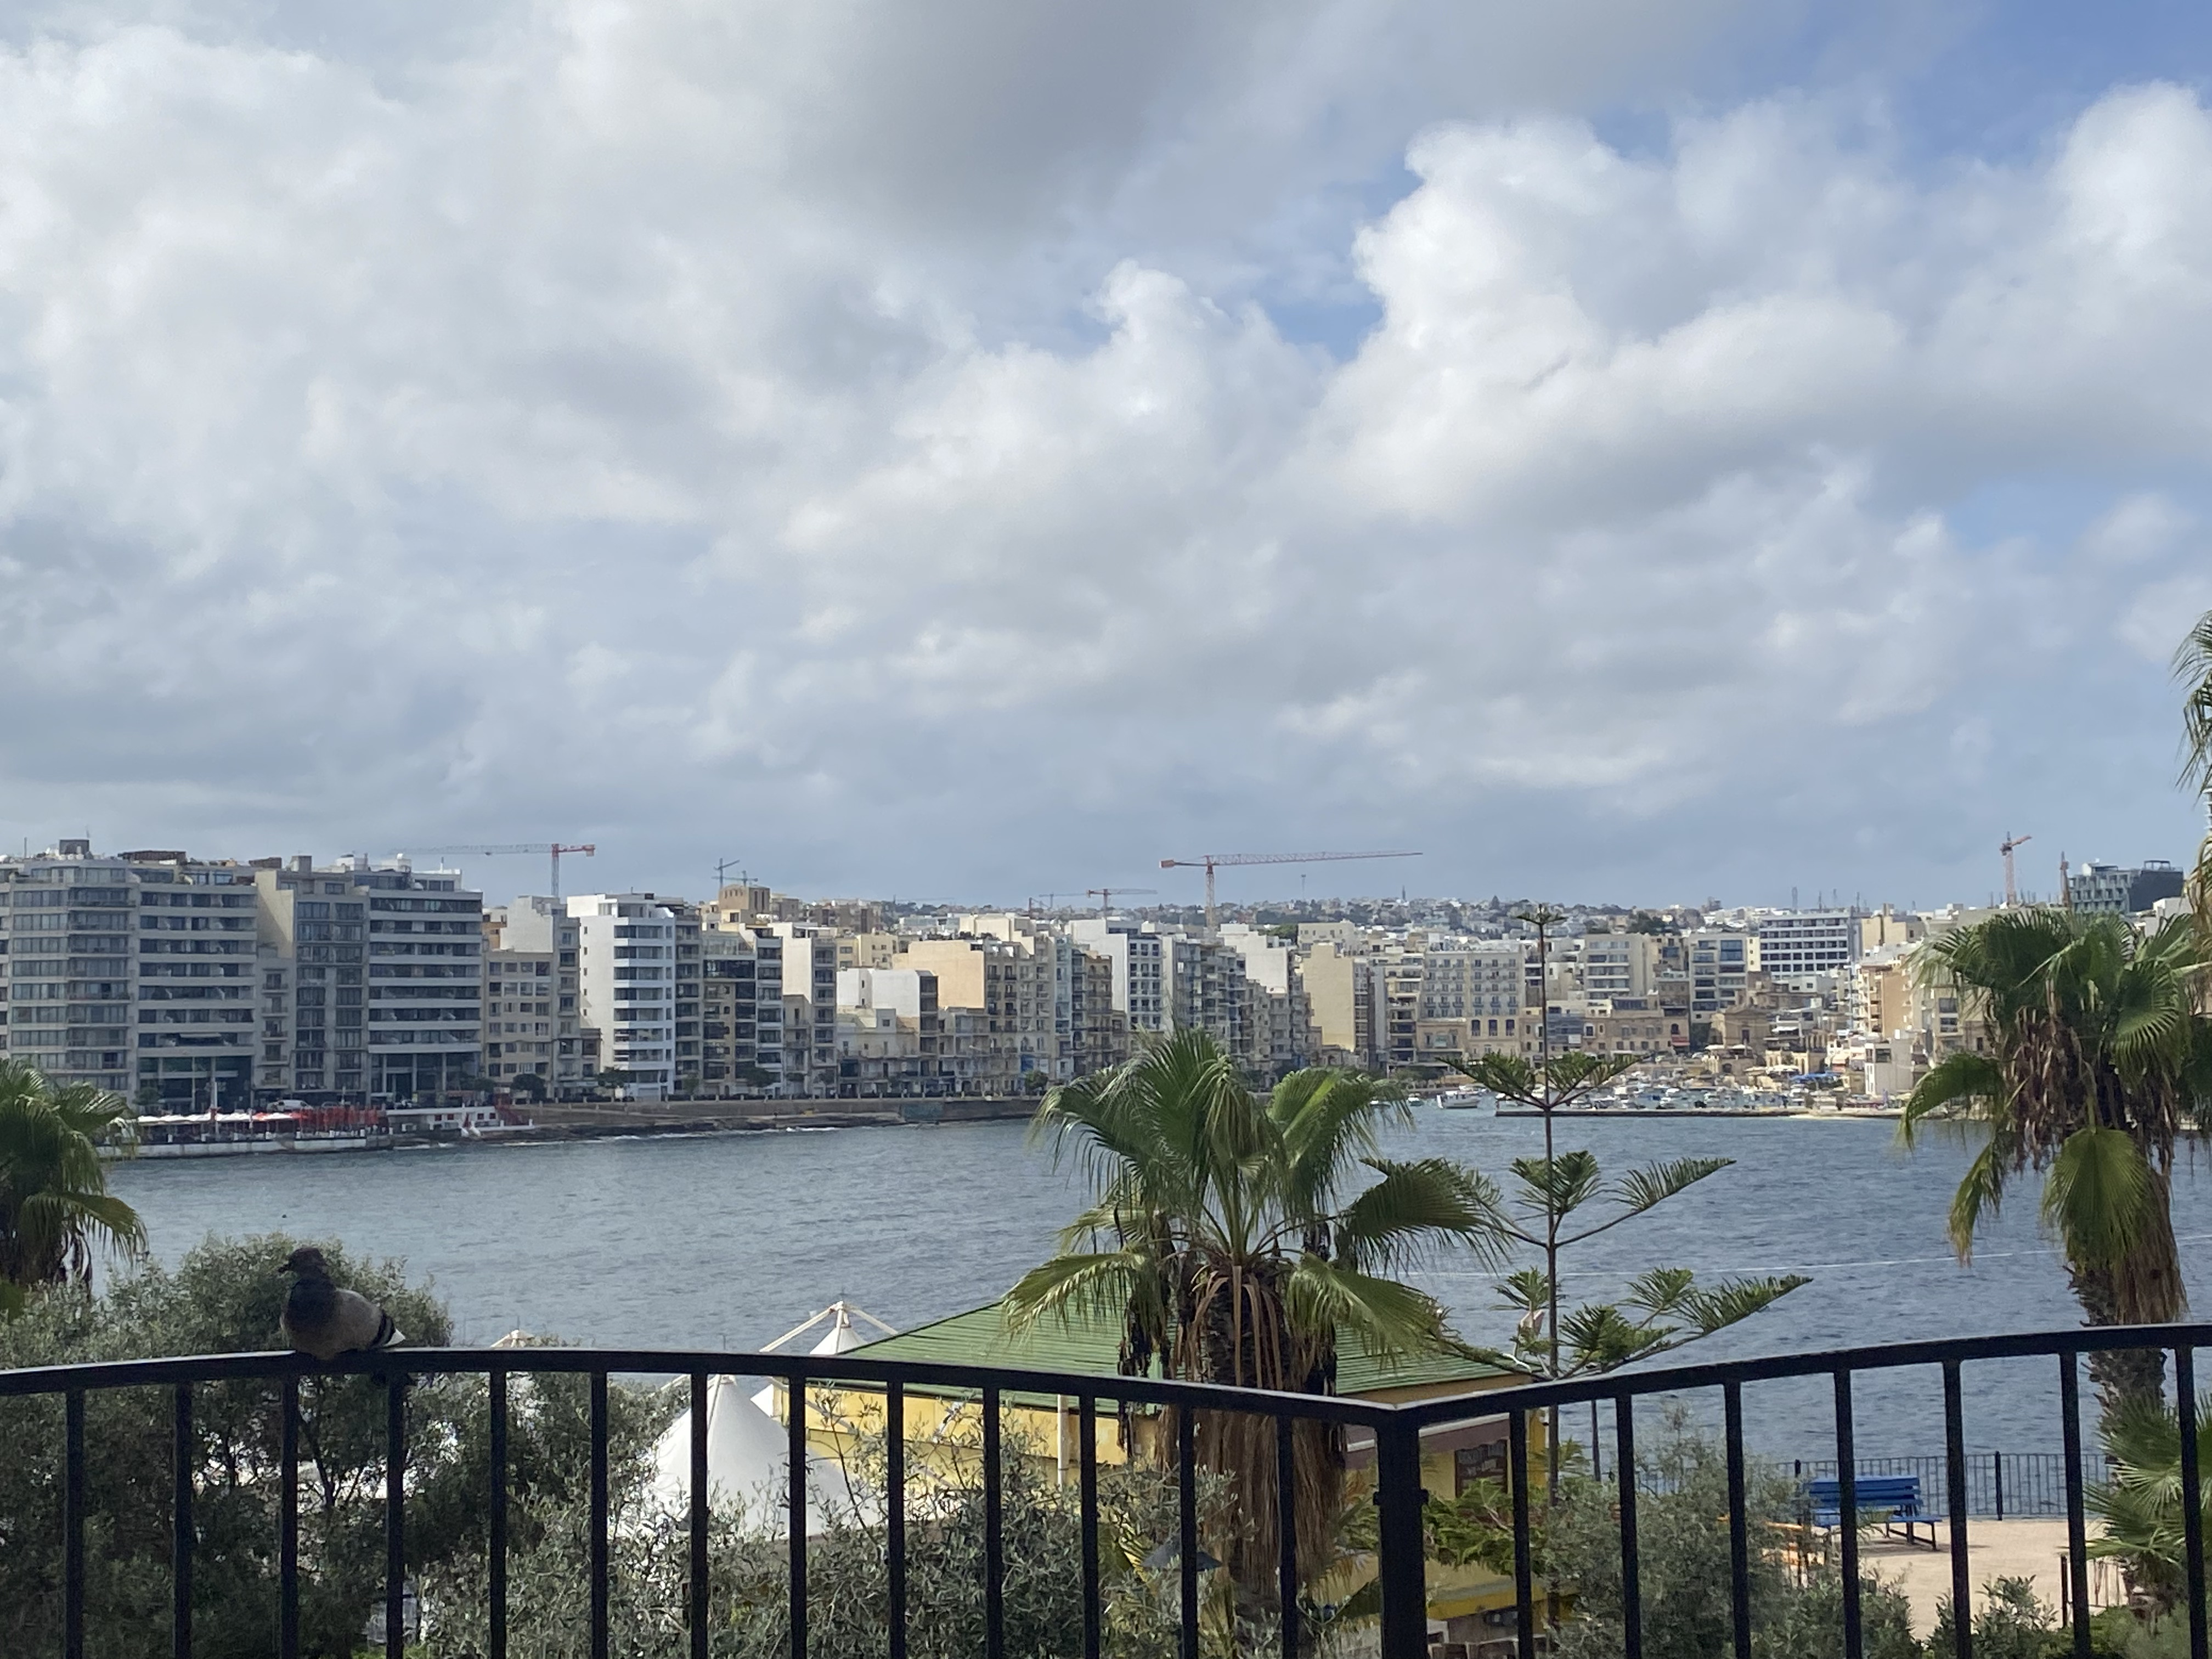crane: (1139, 825, 1431, 893), (429, 830, 629, 873)
